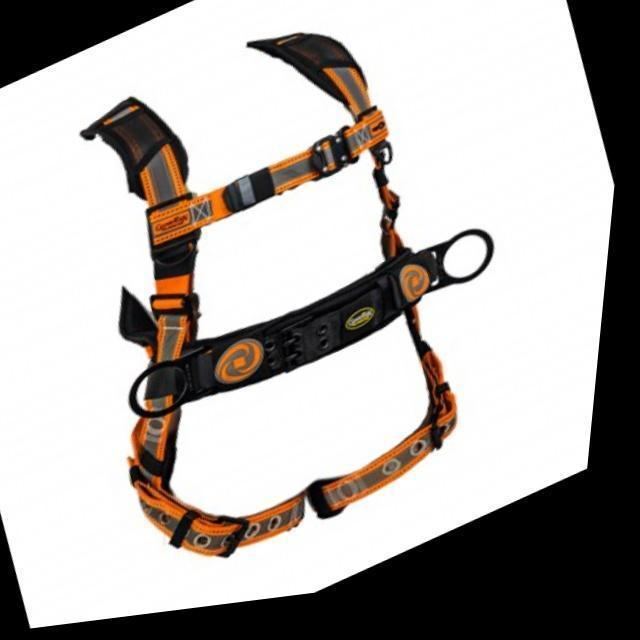Harness: (80, 36, 494, 561)
